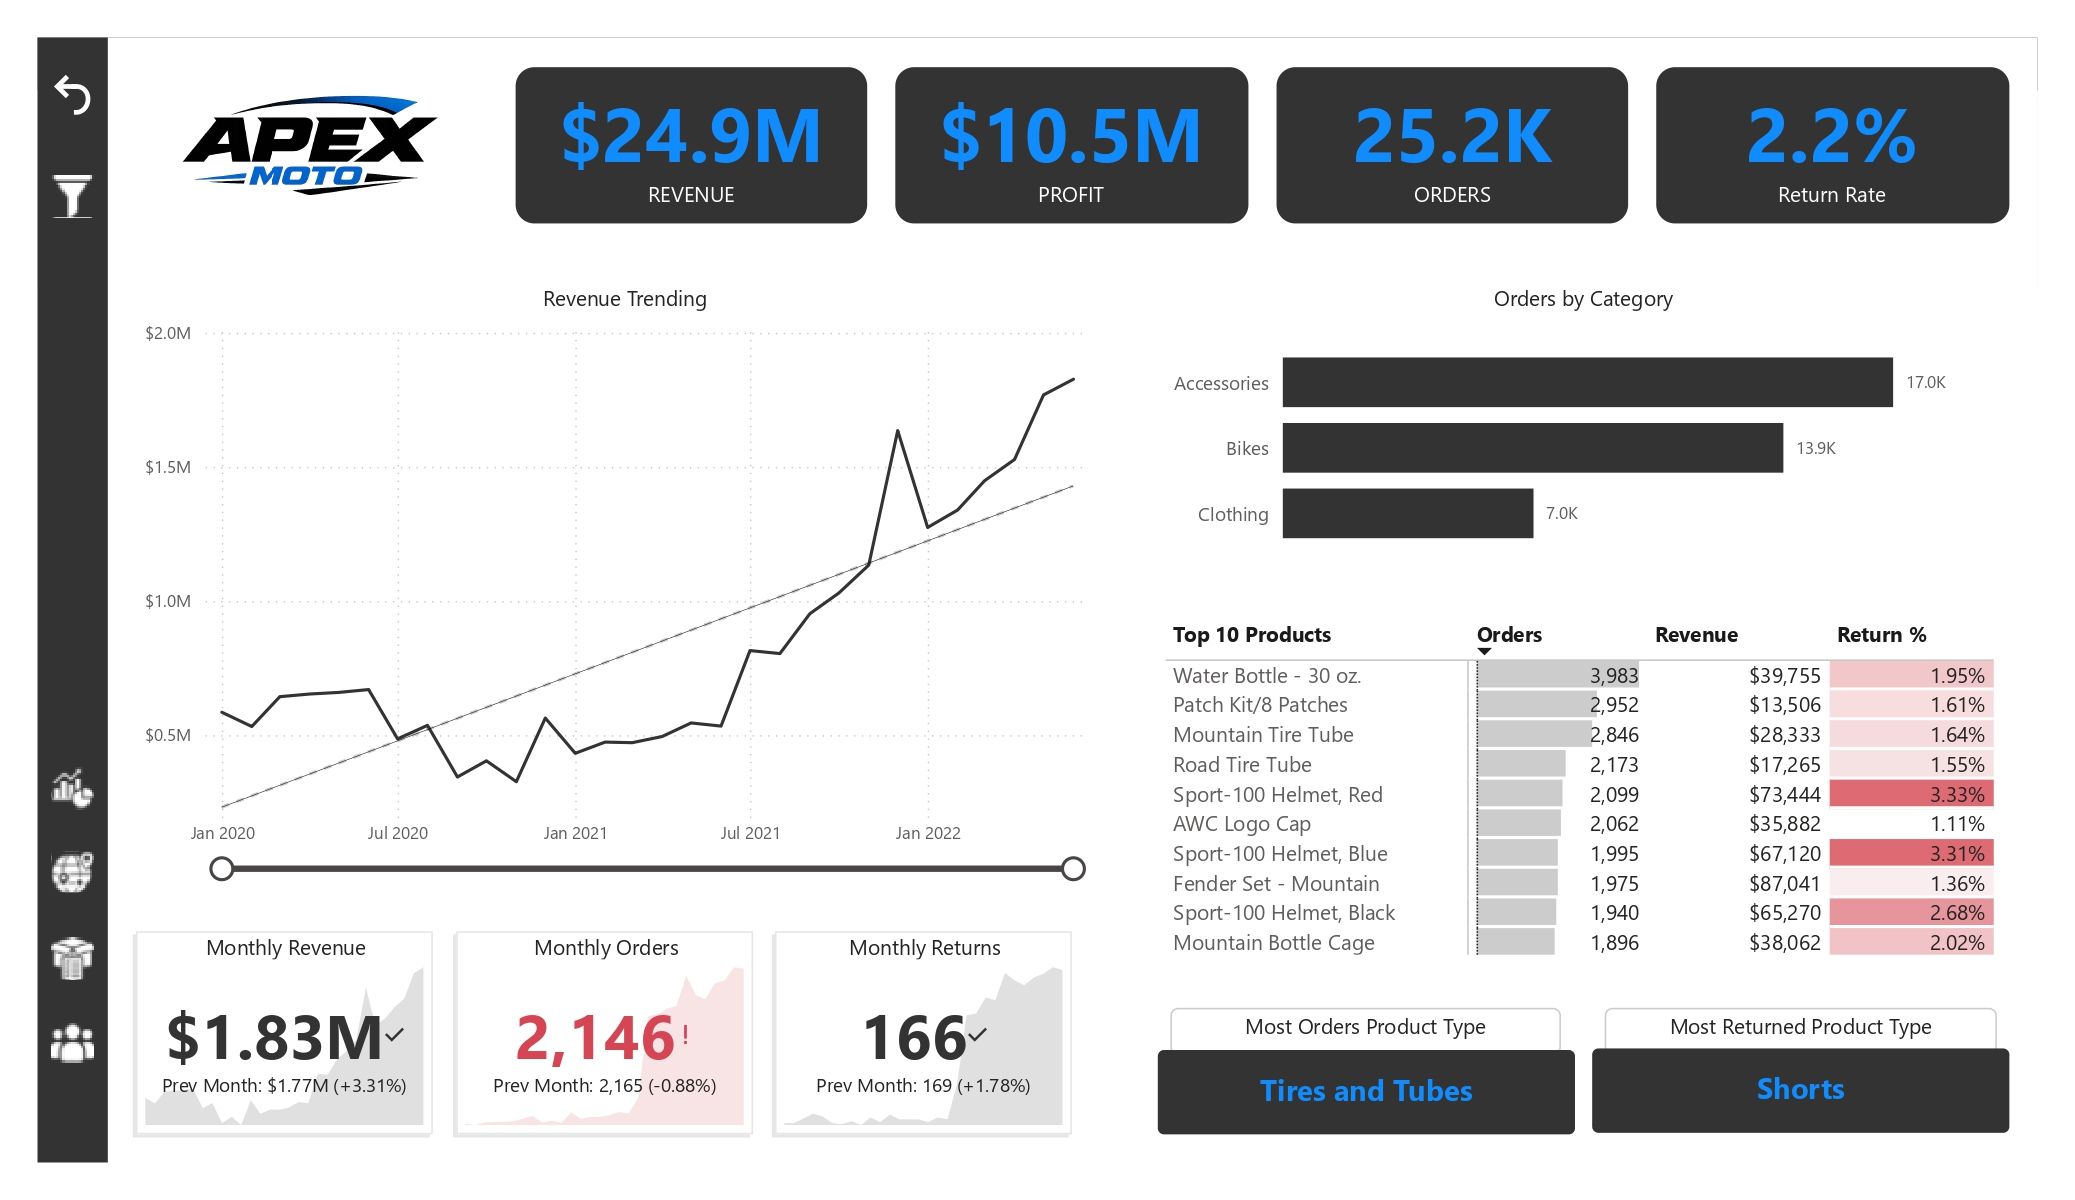

Layout of this report page (visuals, bound fields, positions):
{"tool":"powerbi","page":{"name":"Exec Dashboard","canvas":[1280,720],"ordinal":0},"visuals":[{"type":"card","fields":{"Values":["Measuer Table.Total Revenue"]},"box":[295,9,247,119],"z":0,"group":"g2"},{"type":"group","id":"g1","title":"KPI Background","box":[306.1,19.1,955.7,100],"z":0,"group":"g3"},{"type":"shape","box":[306.1,19.1,225.5,100],"z":0,"group":"g1"},{"type":"actionButton","box":[5,463,35,35],"z":0,"group":"g7"},{"type":"shape","box":[61,574,190,130],"z":0,"group":"g6"},{"type":"shape","box":[266,574,190,130],"z":0,"group":"g5"},{"type":"shape","box":[470,574,190,130],"z":0,"group":"g4"},{"type":"textbox","box":[725.3,620.7,250,30],"z":0},{"type":"group","id":"g2","title":"KPI Values","box":[295,9,977,119],"z":1000,"group":"g3"},{"type":"card","fields":{"Values":["Measuer Table.Total Profit"]},"box":[538.3,9,247,119],"z":1000,"group":"g2"},{"type":"shape","box":[549.5,19.1,225.5,100],"z":1000,"group":"g1"},{"type":"actionButton","box":[5,517.3,35,35],"z":1000,"group":"g7"},{"type":"kpi","title":"Monthly Revenue","fields":{"Indicator":["Measuer Table.Total Revenue"],"TrendLine":["Calendar Lookup.Start of Month"],"Goal":["Measuer Table.Previous Month Revenue"]},"box":[63,572,190,130],"z":1000,"group":"g6"},{"type":"kpi","title":"Monthly Orders","fields":{"TrendLine":["Calendar Lookup.Start of Month"],"Indicator":["Measuer Table.Total Orders"],"Goal":["Measuer Table.Previous Month Orders"]},"box":[267.5,572,190,130],"z":1000,"group":"g5"},{"type":"kpi","title":"Monthly Returns","fields":{"TrendLine":["Calendar Lookup.Start of Month"],"Indicator":["Measuer Table.Total Returned"],"Goal":["Measuer Table.Previous Month Returns"]},"box":[472,572,190,130],"z":1000,"group":"g4"},{"type":"textbox","box":[1003.3,620.7,250.7,30],"z":1000},{"type":"card","fields":{"Values":["Measuer Table.Total Orders"]},"box":[781.7,9,247,119],"z":2000,"group":"g2"},{"type":"image","title":"AW Logo","box":[62.2,18.9,225.6,100],"z":2000},{"type":"shape","box":[792.9,19.1,225.5,100],"z":2000,"group":"g1"},{"type":"actionButton","box":[5,571.7,35,35],"z":2000,"group":"g7"},{"type":"shape","title":"Left Nav Background","box":[0,0,45,720],"z":3000},{"type":"card","fields":{"Values":["Measuer Table.Return Rate"]},"box":[1025,9,247,119],"z":3000,"group":"g2"},{"type":"shape","box":[1036.3,19.1,225.5,100],"z":3000,"group":"g1"},{"type":"actionButton","box":[5,626,35,35],"z":3000,"group":"g7"},{"type":"group","id":"g3","title":"KPIs","box":[295,9,977,119],"z":4000},{"type":"lineChart","title":"Revenue Trending","fields":{"Y":["Measuer Table.Total Revenue"],"Category":["Calendar Lookup.Year","Calendar Lookup.Start of Quarter","Calendar Lookup.Start of Month"]},"box":[63,158,626,385],"z":5000},{"type":"group","id":"g4","title":"Group 1","box":[470,572,192,132],"z":6000},{"type":"group","id":"g5","title":"Group 2","box":[266,572,191.5,132],"z":7000},{"type":"group","id":"g6","title":"Group 3","box":[61,572,192,132],"z":8000},{"type":"barChart","title":"Orders by Category","fields":{"Category":["Product Categories Lookup.CategoryName"],"Y":["Measuer Table.Total Orders"]},"box":[717.3,158.2,544.5,185.5],"z":9000},{"type":"pivotTable","fields":{"Rows":["Product Lookup.ProductName"],"Values":["Measuer Table.Total Orders","Measuer Table.Total Revenue","Measuer Table.Return Rate"]},"box":[717.3,368.2,544.5,226.4],"z":10000},{"type":"card","fields":{"Values":["Min(Product Subcategories Lookup.SubcategoryName)"]},"box":[717.3,648.2,266.4,53.6],"z":11000},{"type":"card","fields":{"Values":["Min(Product Subcategories Lookup.SubcategoryName)"]},"box":[995.5,647.3,266.4,53.6],"z":12000},{"type":"actionButton","box":[5,19,35,35],"z":13000},{"type":"group","id":"g7","title":"Navigation Buttons","box":[5,463,35,198],"z":14000},{"type":"actionButton","box":[5,84,35,35],"z":15000}]}

Visuals, with their boxes on the page's 1280x720 design canvas (x1, y1, x2, y2). These are canvas units, not pixel positions in the 2075x1200 screenshot, which may show the page scaled, cropped or inside an application window:
card - Measuer Table.Total Revenue: select_region(295, 9, 542, 128)
"KPI Background" group: select_region(306, 19, 1262, 119)
shape: select_region(306, 19, 532, 119)
actionButton: select_region(5, 463, 40, 498)
shape: select_region(61, 574, 251, 704)
shape: select_region(266, 574, 456, 704)
shape: select_region(470, 574, 660, 704)
textbox: select_region(725, 621, 975, 651)
"KPI Values" group: select_region(295, 9, 1272, 128)
card - Measuer Table.Total Profit: select_region(538, 9, 785, 128)
shape: select_region(550, 19, 775, 119)
actionButton: select_region(5, 517, 40, 552)
"Monthly Revenue" kpi: select_region(63, 572, 253, 702)
"Monthly Orders" kpi: select_region(268, 572, 458, 702)
"Monthly Returns" kpi: select_region(472, 572, 662, 702)
textbox: select_region(1003, 621, 1254, 651)
card - Measuer Table.Total Orders: select_region(782, 9, 1029, 128)
"AW Logo" image: select_region(62, 19, 288, 119)
shape: select_region(793, 19, 1018, 119)
actionButton: select_region(5, 572, 40, 607)
"Left Nav Background" shape: select_region(0, 0, 45, 720)
card - Measuer Table.Return Rate: select_region(1025, 9, 1272, 128)
shape: select_region(1036, 19, 1262, 119)
actionButton: select_region(5, 626, 40, 661)
"KPIs" group: select_region(295, 9, 1272, 128)
"Revenue Trending" lineChart: select_region(63, 158, 689, 543)
"Group 1" group: select_region(470, 572, 662, 704)
"Group 2" group: select_region(266, 572, 458, 704)
"Group 3" group: select_region(61, 572, 253, 704)
"Orders by Category" barChart: select_region(717, 158, 1262, 344)
pivotTable - Product Lookup.ProductName x Measuer Table.Total Orders: select_region(717, 368, 1262, 595)
card - Min(Product Subcategories Lookup.SubcategoryName): select_region(717, 648, 984, 702)
card - Min(Product Subcategories Lookup.SubcategoryName): select_region(996, 647, 1262, 701)
actionButton: select_region(5, 19, 40, 54)
"Navigation Buttons" group: select_region(5, 463, 40, 661)
actionButton: select_region(5, 84, 40, 119)
